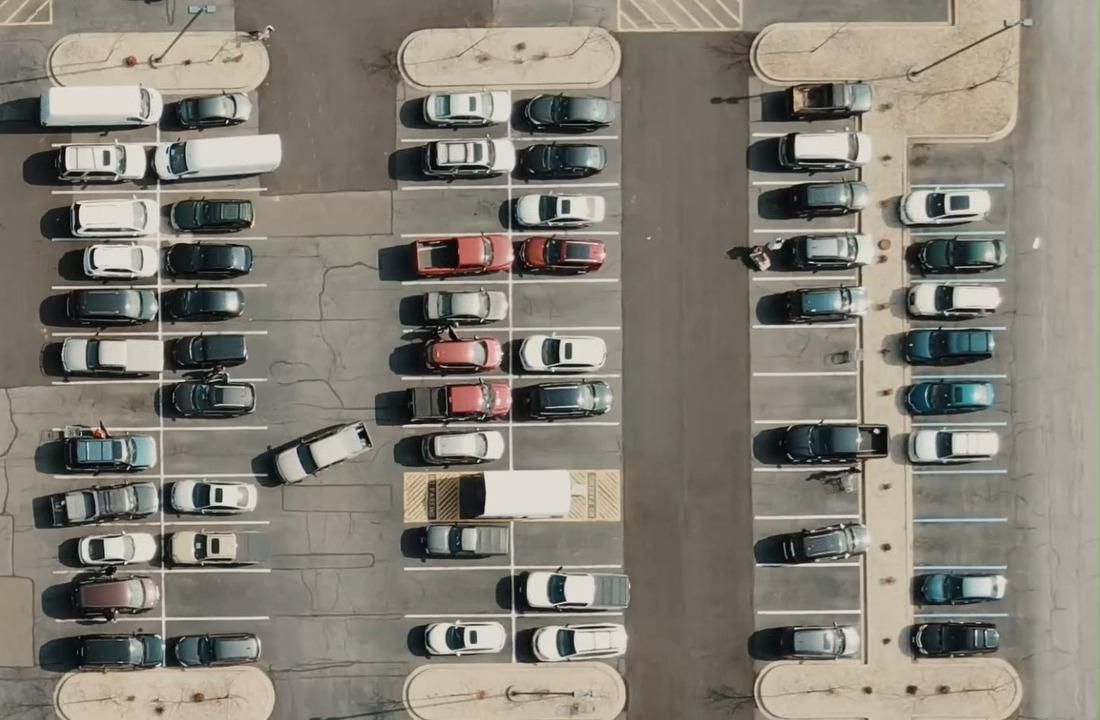car: (250, 419, 373, 487), (151, 132, 282, 182), (752, 420, 888, 466), (726, 232, 871, 272), (38, 84, 163, 127), (48, 480, 159, 527), (753, 521, 870, 565), (514, 568, 631, 612), (410, 232, 514, 278), (403, 380, 512, 423), (755, 284, 868, 325), (757, 179, 869, 220), (747, 621, 860, 661), (515, 622, 628, 662), (58, 336, 162, 379), (68, 572, 159, 620), (905, 234, 1007, 275), (52, 141, 148, 184), (498, 192, 605, 230), (156, 379, 256, 419), (777, 130, 872, 172), (519, 379, 613, 421), (523, 91, 615, 133), (778, 81, 872, 122), (62, 432, 157, 472), (63, 286, 158, 326), (515, 235, 606, 276), (905, 282, 1002, 320), (407, 620, 506, 657), (516, 333, 607, 373), (898, 187, 991, 226), (900, 327, 995, 365), (516, 141, 607, 180), (68, 197, 156, 237), (909, 620, 1000, 658), (163, 241, 253, 279), (420, 138, 501, 180), (422, 89, 509, 128), (902, 379, 995, 415), (906, 428, 999, 464), (421, 287, 508, 325), (420, 334, 504, 373), (418, 523, 508, 559), (166, 478, 253, 515), (419, 429, 505, 466), (160, 285, 245, 322), (168, 197, 254, 233), (174, 90, 252, 129), (76, 530, 159, 566), (918, 572, 1007, 605), (81, 242, 158, 279), (170, 332, 248, 368)
